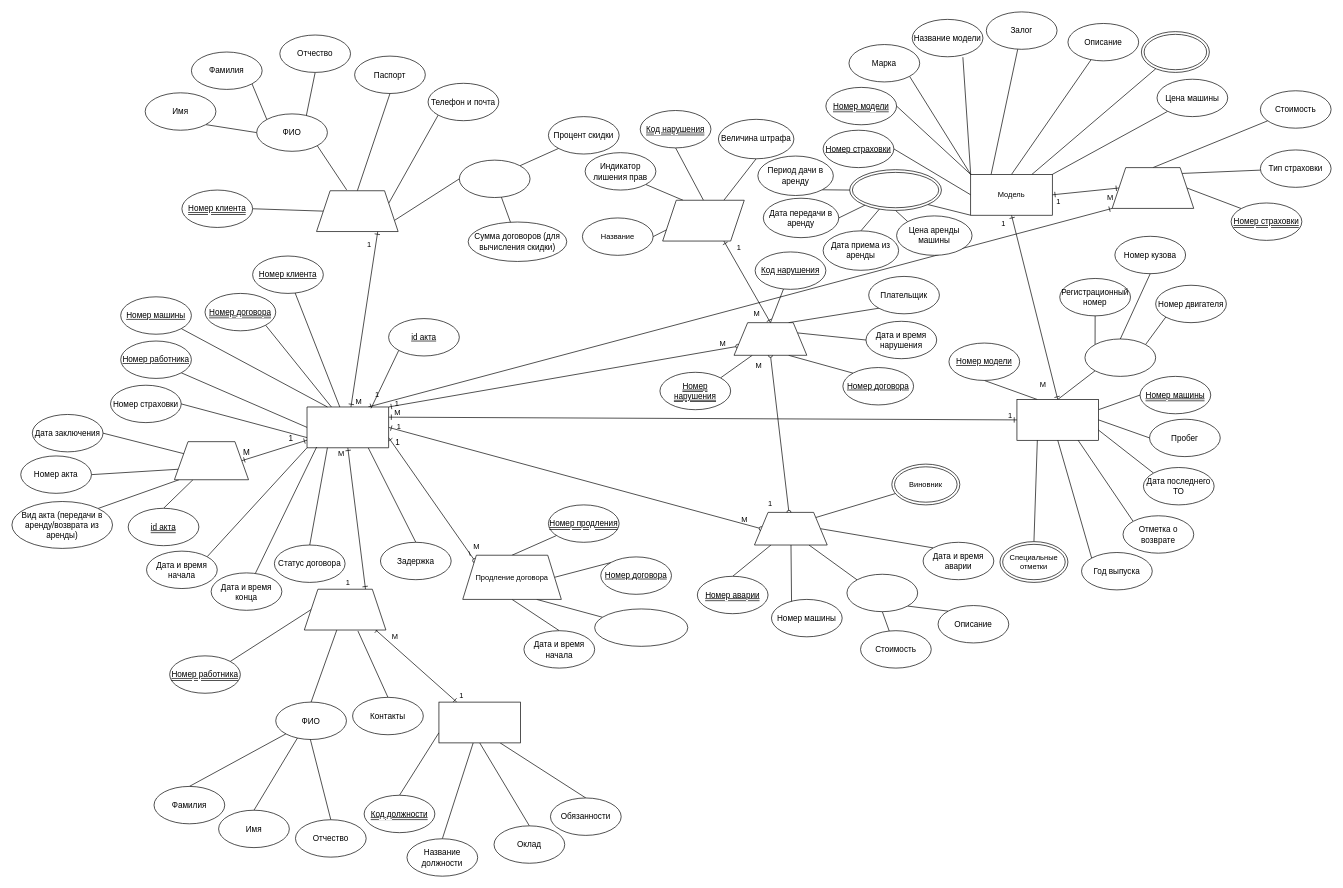
This 1343x888 diagram has some shape labels left out. Here are the shapes that lost their labels. From the top down, the box of each, then its label:
(1141, 31, 1209, 72): Характеристики
(459, 159, 530, 198): Информация о скидке
(849, 169, 941, 210): Арендная ставка
(1111, 167, 1194, 208): Страховка
(316, 190, 398, 232): Клиент
(662, 200, 744, 241): Тип нарушения
(733, 322, 807, 355): Нарушение
(1084, 338, 1156, 376): Идентификация
(306, 406, 389, 448): Договор
(1016, 399, 1099, 440): Машина
(174, 441, 249, 480): Акт
(754, 512, 827, 545): Авария
(304, 589, 386, 630): Работник
(846, 574, 918, 612): Ущерб
(594, 608, 688, 646): Дата и время окончания
(438, 701, 521, 743): Должность
